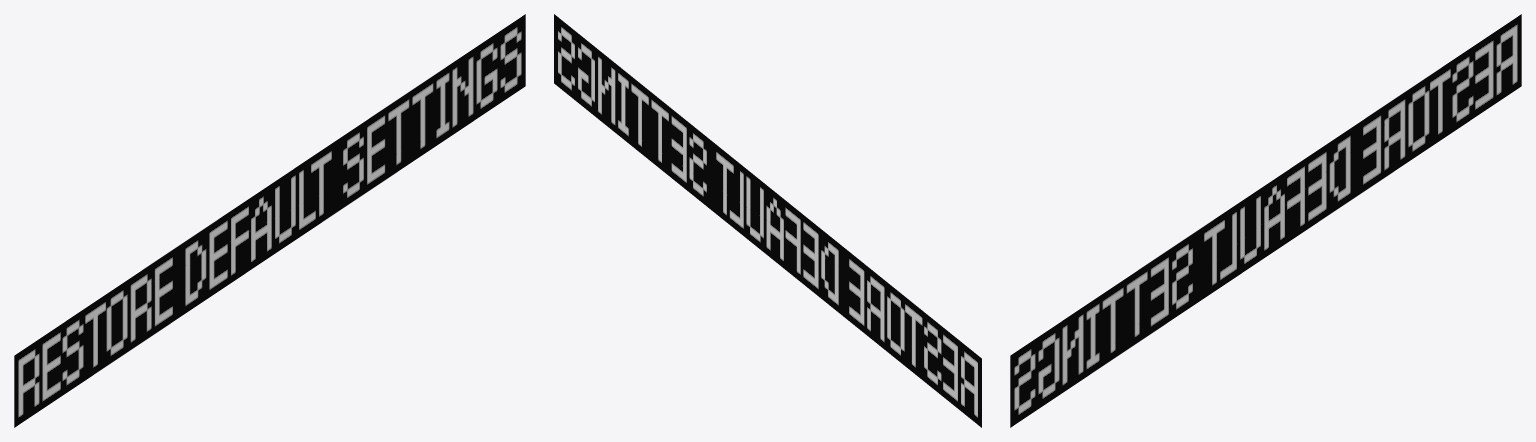
3 views of the same model, side by side, from view 1: azimuth 90°, elevation 25°; view 2: azimuth 150°, elevation 25°; view 3: azimuth 270°, elevation 25° (orthographic). The views are drawn at different scales.
Visible parts, largest first — view 1: Joint_0_Object_0; view 2: Joint_0_Object_0; view 3: Joint_0_Object_0.
Boxes of the visible parts, <box> form: Joint_0_Object_0: <box>14,14,525,427</box>; Joint_0_Object_0: <box>554,14,981,427</box>; Joint_0_Object_0: <box>1010,14,1521,427</box>.
Size of the model in its own units: 325 by 32 by 205.
Materials: 1 (1 with a texture image).
